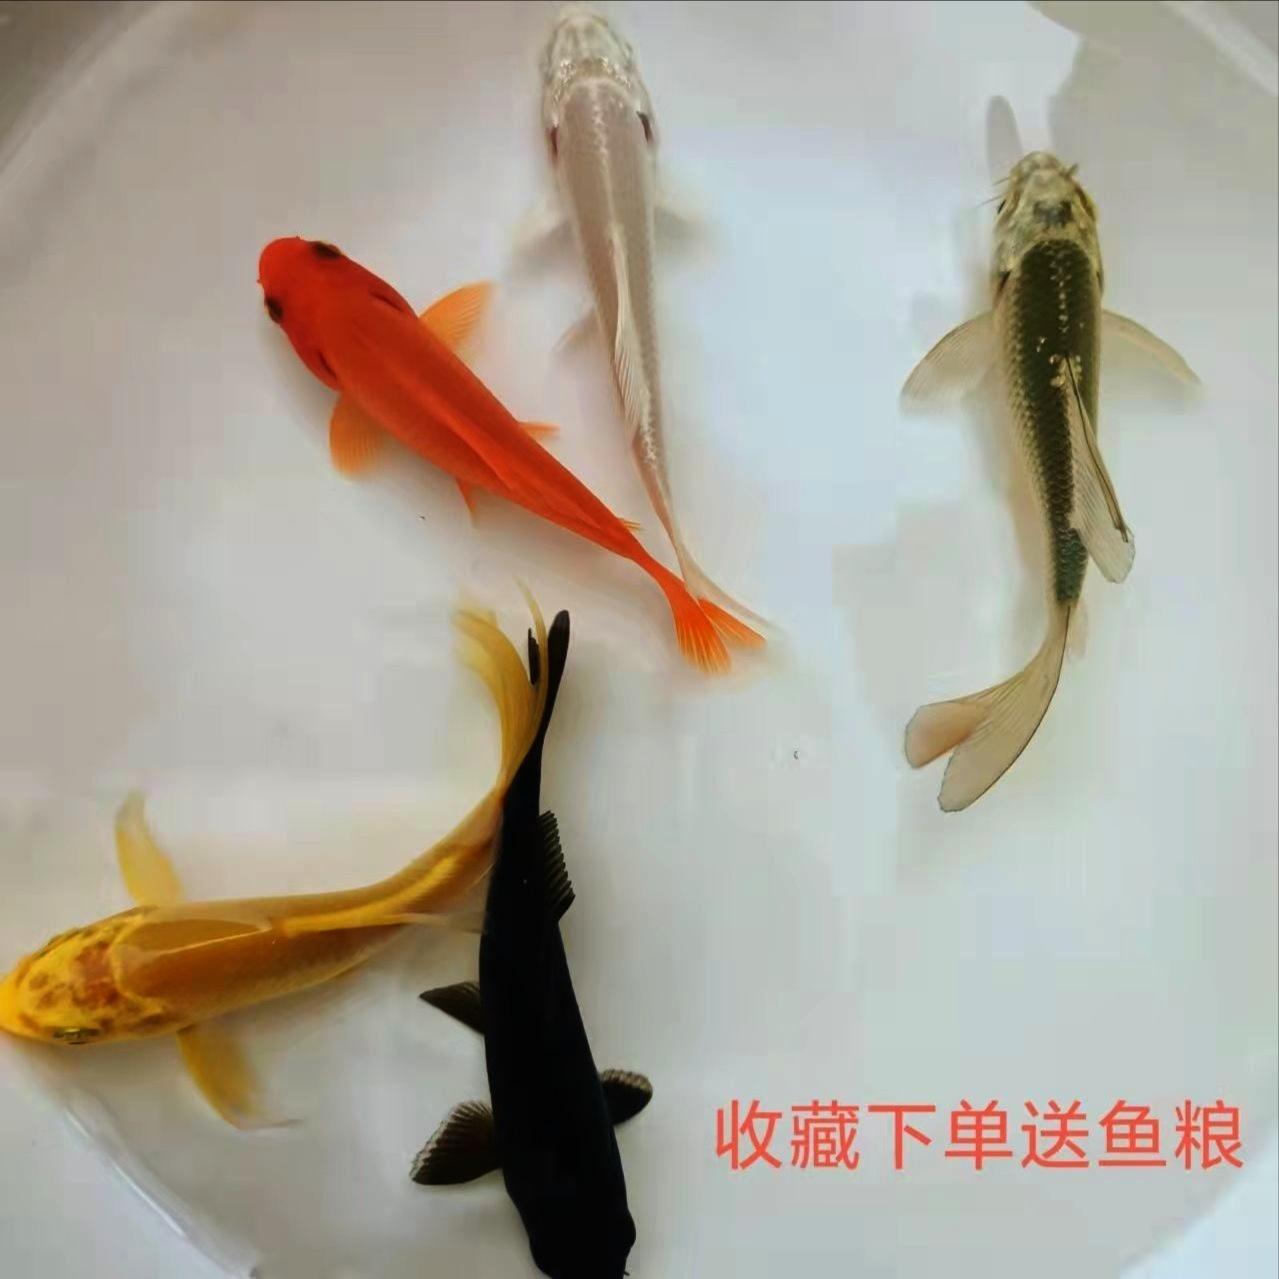fry: (859, 130, 1195, 828), (7, 704, 418, 1101), (231, 218, 630, 622), (447, 777, 697, 1275), (490, 14, 737, 509)
